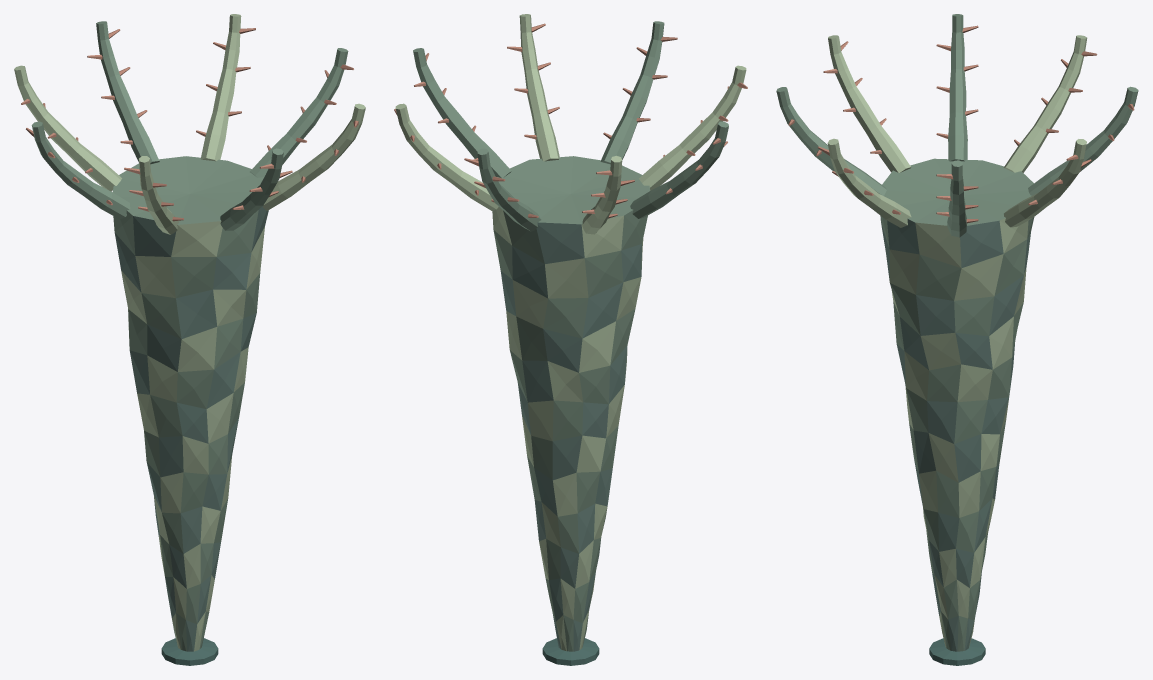
File: echmatocrinus.glb
The picture shows the model from 3 angles, left to right: view 1: azimuth 30°, elevation 25°; view 2: azimuth 150°, elevation 25°; view 3: azimuth 270°, elevation 25°; orthographic projection.
Parts seen in each view (by area): view 1: eight-arm-irregular-plated-cone; view 2: eight-arm-irregular-plated-cone; view 3: eight-arm-irregular-plated-cone.
Part boxes in pixels (<box>): eight-arm-irregular-plated-cone: <box>14,14,365,665</box>; eight-arm-irregular-plated-cone: <box>394,14,747,665</box>; eight-arm-irregular-plated-cone: <box>776,14,1138,665</box>.
Size of the model in its own units: 0.0401 by 0.0695 by 0.0401.
